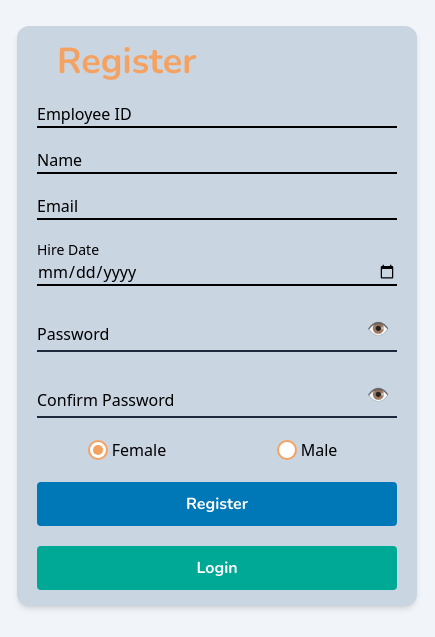
Test: Register Page tests › should match password and confirm password
Type "my-password" into the password field labelled "Password" at (198, 336), box [37, 306, 359, 366]
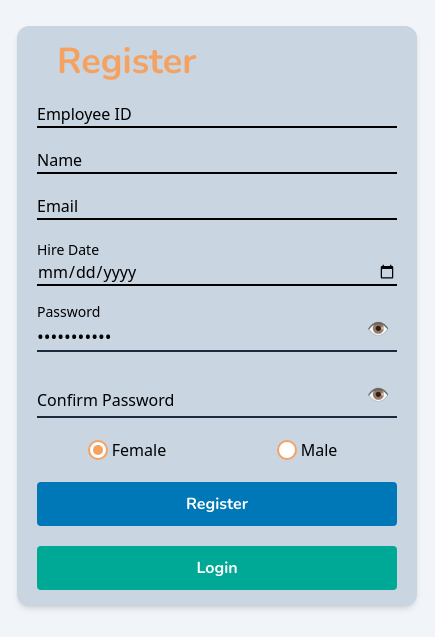
Type "other-password" into the password field labelled "Confirm Password" at (198, 402), box [37, 372, 359, 432]
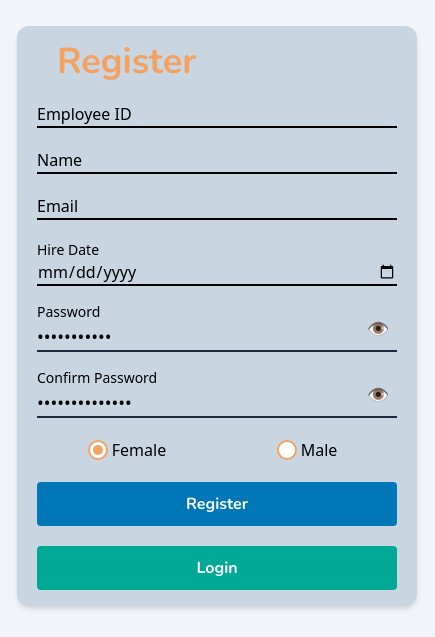
Click the button "Register" at (217, 504), box [37, 482, 397, 526]
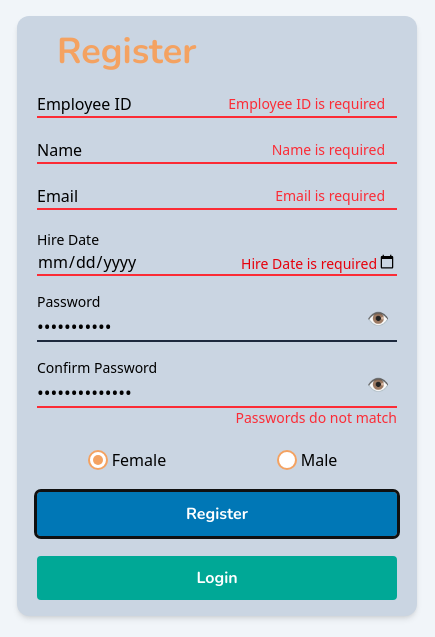
Expected: the text "Passwords do not match" is shown, [235, 408, 397, 427]
